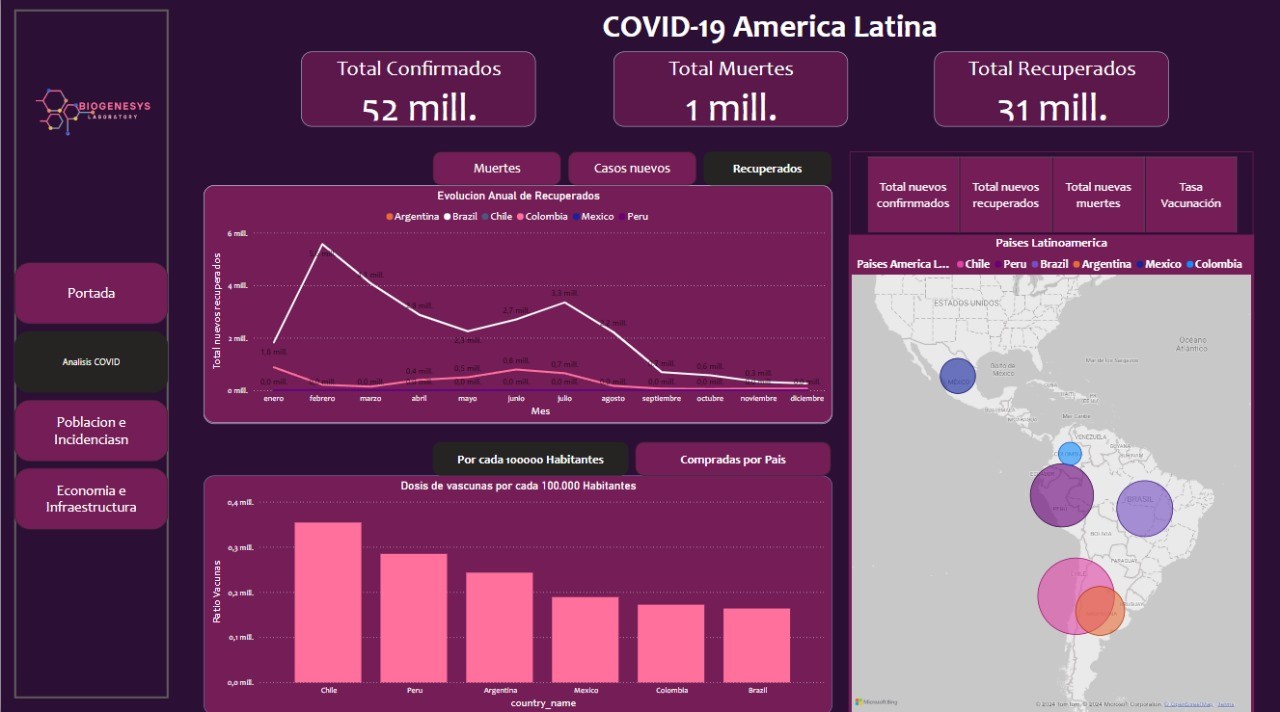

The dashboard page shown, as its layout file describes it:
{"tool":"powerbi","page":{"name":"Analisis COVID","canvas":[1920,1080],"ordinal":1},"visuals":[{"type":"actionButton","box":[19.1,19.1,231.7,1035.4],"z":0},{"type":"textbox","box":[282.7,0,1389.4,82.6],"z":1000},{"type":"card","title":"Total Confirmados","fields":{"Values":["*Medidas.Total nuevos confirnmados"]},"box":[450.1,82.6,352.3,113.1],"z":2000},{"type":"card","title":"Total Muertes","fields":{"Values":["*Medidas.Total nuevas muertes"]},"box":[919.8,82.6,352.3,113.1],"z":3000},{"type":"card","title":"Total Recuperados","fields":{"Values":["*Medidas.Total nuevos recuperados"]},"box":[1400.3,82.6,352.3,113.1],"z":4000},{"type":"lineChart","title":"Evolucion Anual de Casos Nuevos","fields":{"Category":["DatosFinalesFiltrado.date.Variación.Jerarquía de fechas.Año","DatosFinalesFiltrado.date.Variación.Jerarquía de fechas.Mes"],"Series":["DatosFinalesFiltrado.country_name"],"Y":["*Medidas.Total nuevos confirnmados"]},"box":[304,284.9,943.9,355],"z":5000},{"type":"lineChart","title":"Evolucion Anual de Muertes","fields":{"Category":["DatosFinalesFiltrado.date.Variación.Jerarquía de fechas.Año","DatosFinalesFiltrado.date.Variación.Jerarquía de fechas.Mes"],"Series":["DatosFinalesFiltrado.country_name"],"Y":["*Medidas.Total nuevas muertes"]},"box":[304,287,943.9,355],"z":6000},{"type":"map","title":"Paises Latinoamerica","fields":{"Size":["*Medidas.Tasa Vacunación"],"Category":["DatosFinalesFiltrado.country_name"],"Series":["DatosFinalesFiltrado.country_name"]},"box":[1272,358.8,608.8,721.9],"z":7000},{"type":"lineChart","title":"Evolucion Anual de Recuperados","fields":{"Category":["DatosFinalesFiltrado.date.Variación.Jerarquía de fechas.Año","DatosFinalesFiltrado.date.Variación.Jerarquía de fechas.Mes"],"Series":["DatosFinalesFiltrado.country_name"],"Y":["*Medidas.Total nuevos recuperados"]},"box":[304,284.9,943.9,357.2],"z":9000},{"type":"columnChart","title":"Dosis de vascunas por cada 100.000 Habitantes","fields":{"Y":["*Medidas.Ratio Vacunas"],"Category":["DatosFinalesFiltrado.country_name"]},"box":[304.6,720,943.7,360],"z":10000},{"type":"pageNavigator","box":[19.1,399.7,231.7,403.9],"z":11000},{"type":"image","box":[19.1,19.1,231.7,308.3],"z":12000},{"type":"bookmarkNavigator","box":[648.1,233.9,599.7,51.1],"z":13000},{"type":"bookmarkNavigator","box":[648.1,669.6,599.7,51.1],"z":14000},{"type":"slicer","fields":{"Values":["Parámetro.Parámetro"]},"box":[1273.5,233.9,605.9,127.6],"z":15000}]}

Visuals, with their boxes in screenshot pixels (x1, y1, x2, y2), scaled from the page's 1920x1080 canvas onto the 1280x712 screenshot:
actionButton: left=13, top=13, right=167, bottom=695
textbox: left=188, top=0, right=1115, bottom=54
"Total Confirmados" card: left=300, top=54, right=535, bottom=129
"Total Muertes" card: left=613, top=54, right=848, bottom=129
"Total Recuperados" card: left=934, top=54, right=1168, bottom=129
"Evolucion Anual de Casos Nuevos" lineChart: left=203, top=188, right=832, bottom=422
"Evolucion Anual de Muertes" lineChart: left=203, top=189, right=832, bottom=423
"Paises Latinoamerica" map: left=848, top=237, right=1254, bottom=711
"Evolucion Anual de Recuperados" lineChart: left=203, top=188, right=832, bottom=423
"Dosis de vascunas por cada 100.000 Habitantes" columnChart: left=203, top=475, right=832, bottom=711
pageNavigator: left=13, top=264, right=167, bottom=530
image: left=13, top=13, right=167, bottom=216
bookmarkNavigator: left=432, top=154, right=832, bottom=188
bookmarkNavigator: left=432, top=441, right=832, bottom=475
slicer - Parámetro.Parámetro: left=849, top=154, right=1253, bottom=238
